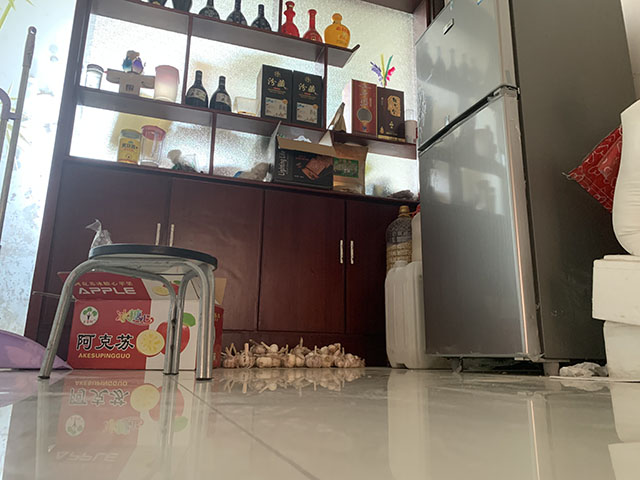cabinet: (16, 151, 435, 368)
stool: (37, 243, 221, 382)
